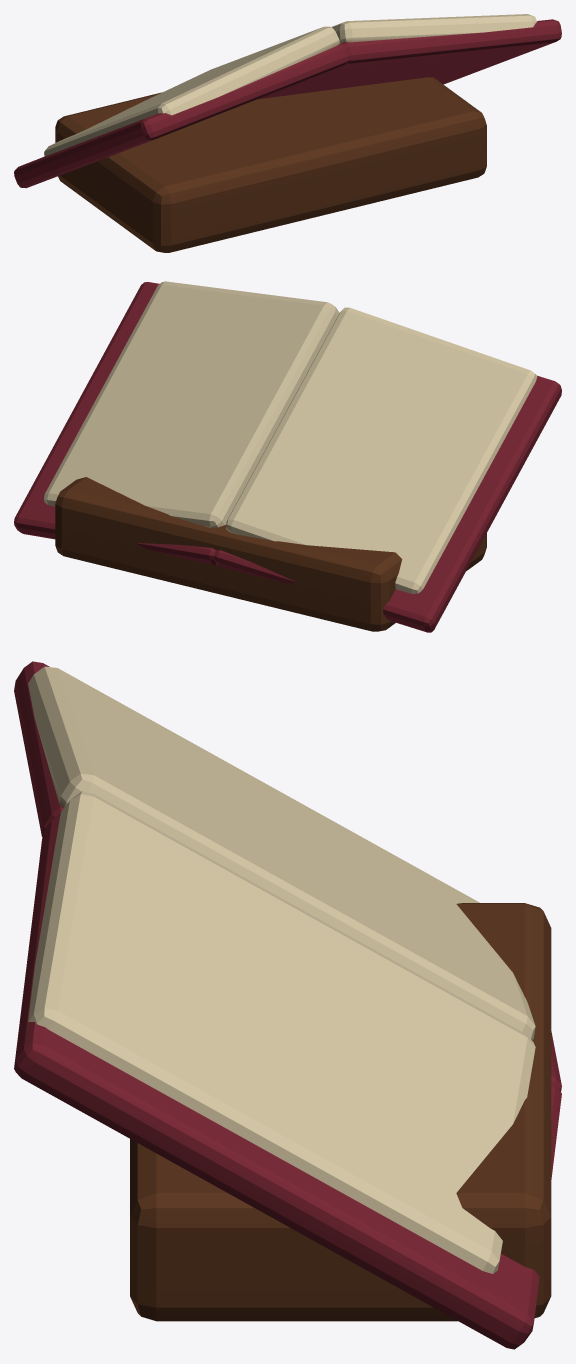
The model's file is book.glb.
3 renders of one model, top to bottom at view 1: azimuth 30°, elevation 25°; view 2: azimuth 150°, elevation 25°; view 3: azimuth 270°, elevation 25°, orthographic. The views are drawn at different scales.
Visible parts, largest first — view 1: book; view 2: book; view 3: book.
Boxes of the visible parts, left/top/right/bottom form: book: left=14, top=14, right=561, bottom=252; book: left=14, top=281, right=561, bottom=632; book: left=14, top=661, right=561, bottom=1349.
Size of the model in its own units: 0.5291 by 0.2464 by 0.3123.
